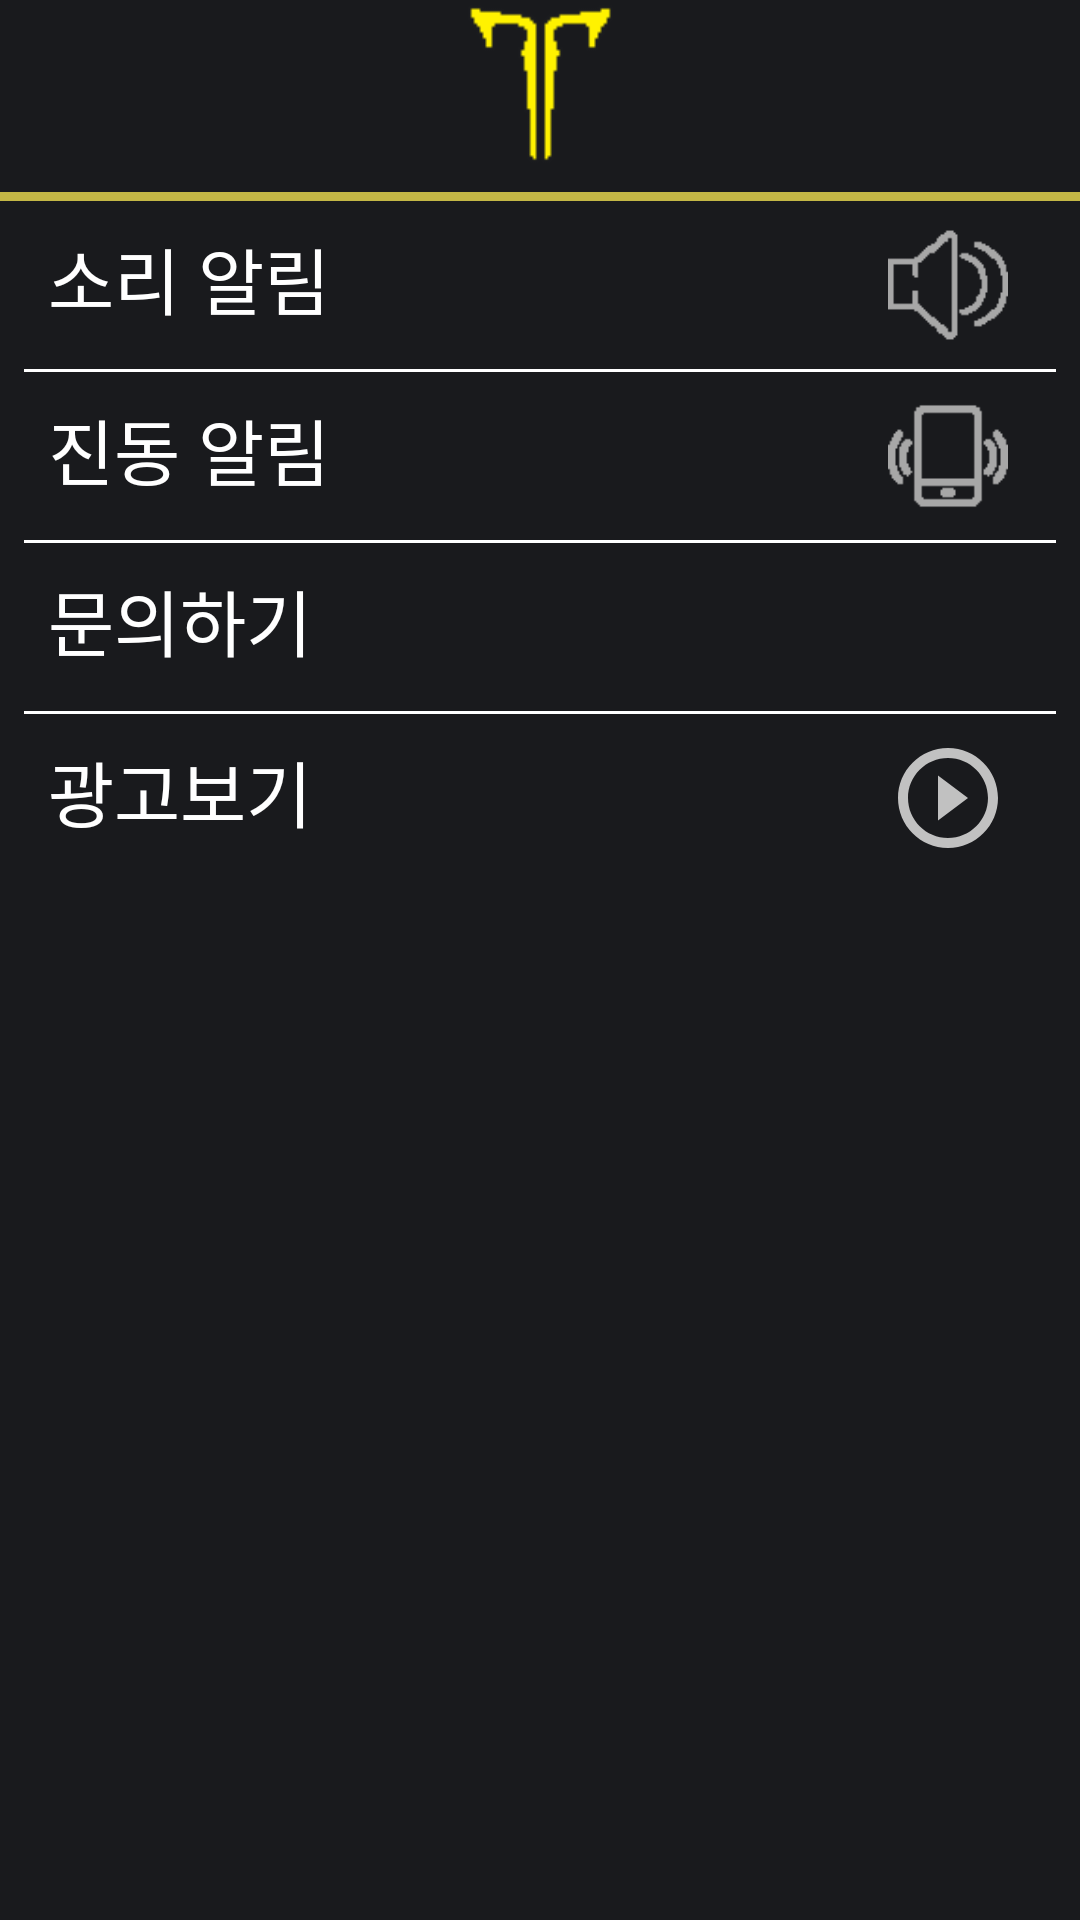

Named icons in this screenshot (1080w x 1920h) and their bounding boxes, [x1=x1, y1=y1, x2=x2, y2=y2]:
play: [x1=898, y1=748, x2=998, y2=848]
sound on: [x1=888, y1=230, x2=1008, y2=340]
vibration on: [x1=888, y1=405, x2=1008, y2=507]
